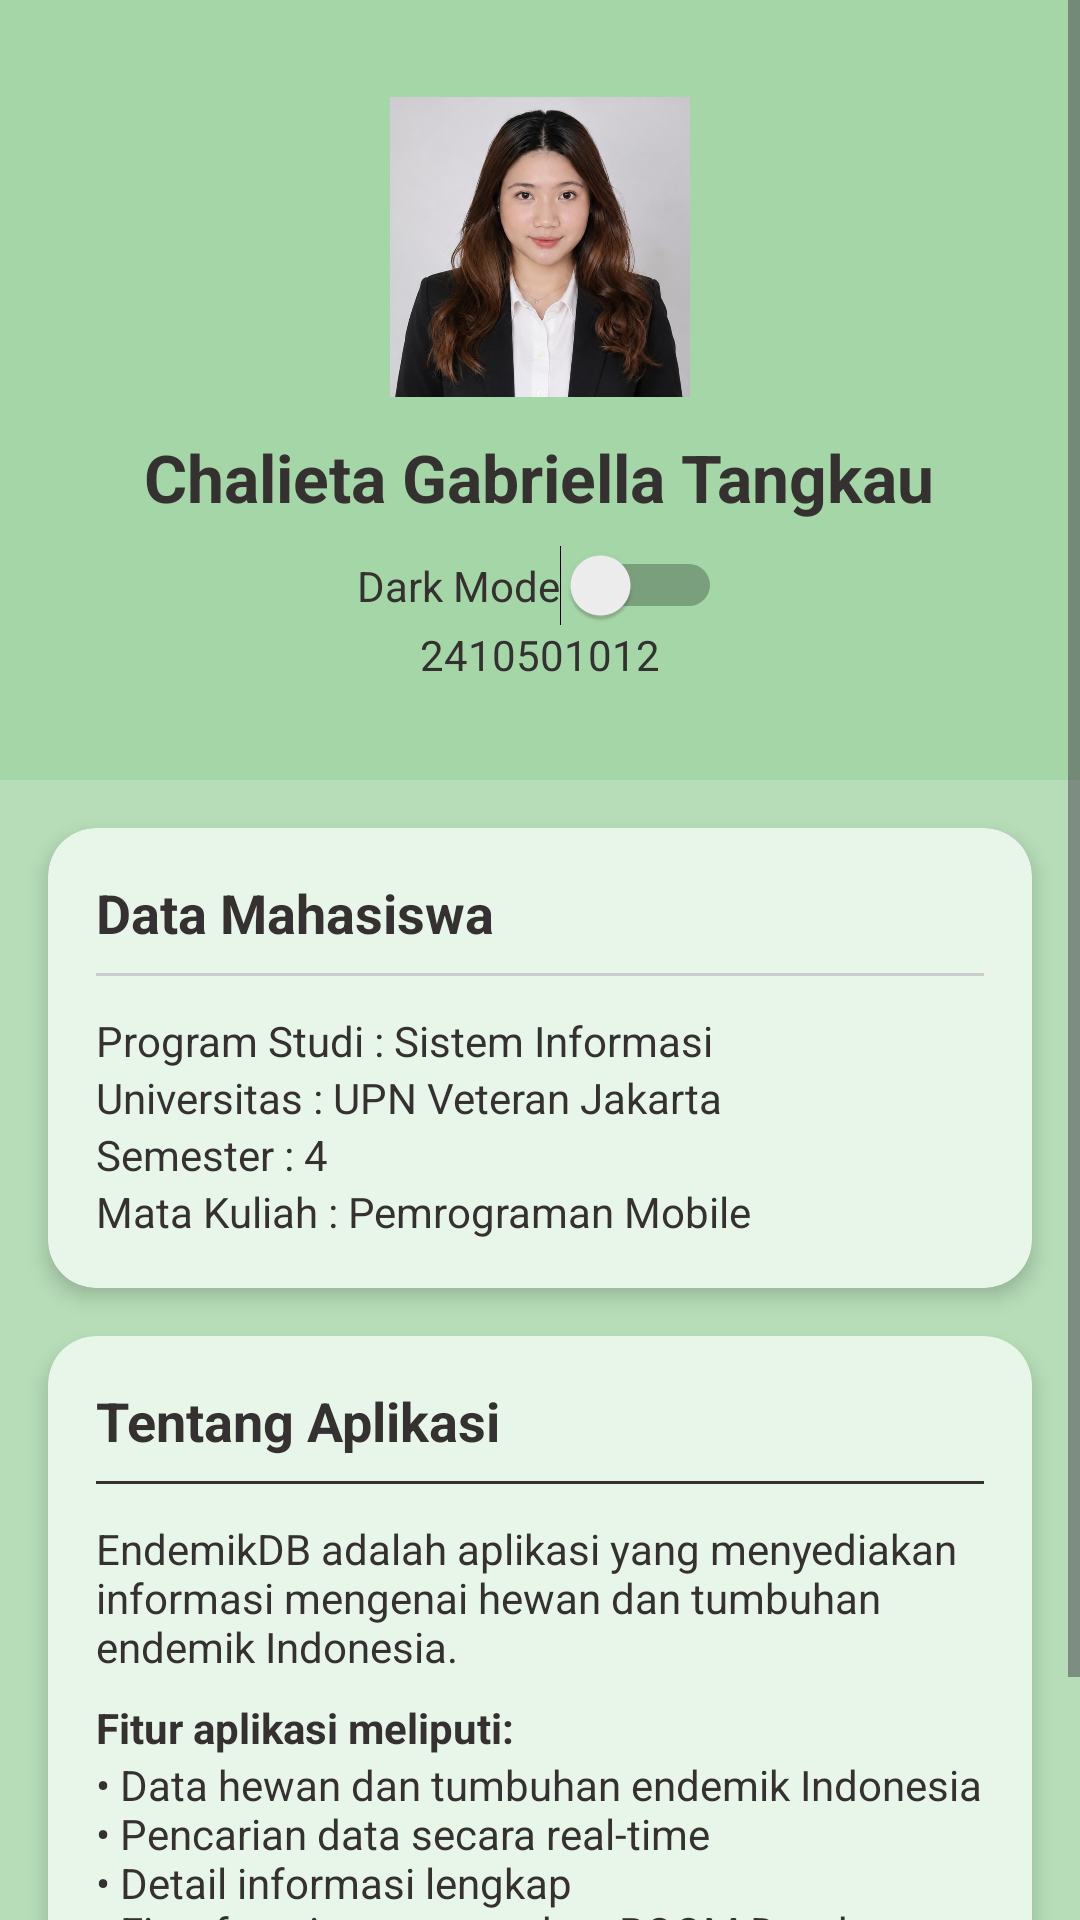

Where icons sit on this 1080w x 1920h app screen, as rect(x1, y1, x2, y2):
foto chalieta: rect(390, 97, 690, 397)
